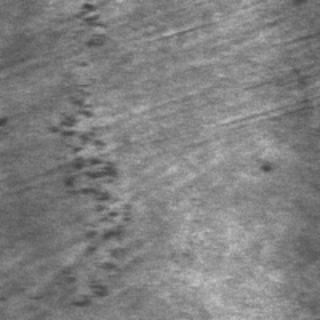rolled pit: (38, 44, 136, 318), (54, 0, 110, 124)
